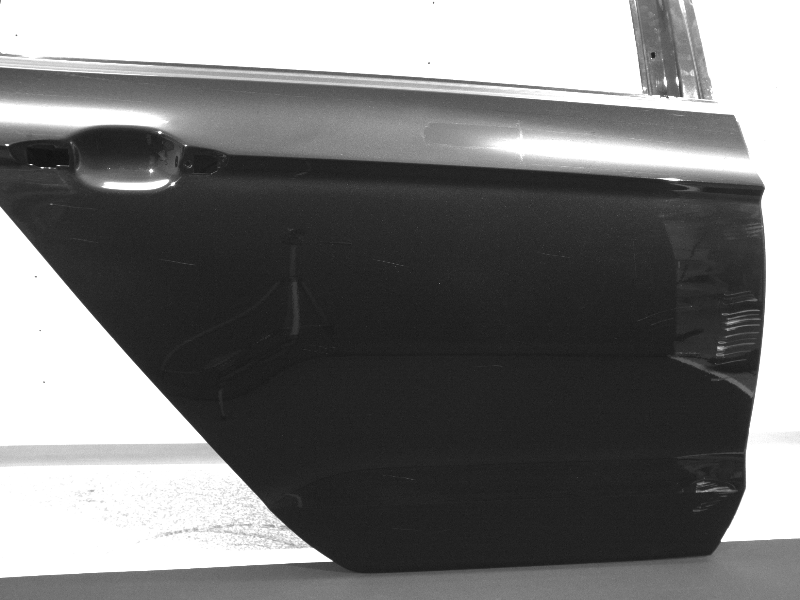scratch: (710, 289, 761, 383), (692, 478, 738, 515), (636, 305, 695, 326), (371, 258, 408, 268), (50, 203, 94, 211), (537, 251, 575, 260), (380, 473, 418, 482), (159, 259, 195, 267), (70, 237, 98, 244), (390, 526, 418, 532), (634, 240, 637, 277), (478, 364, 505, 368), (677, 260, 682, 268)
